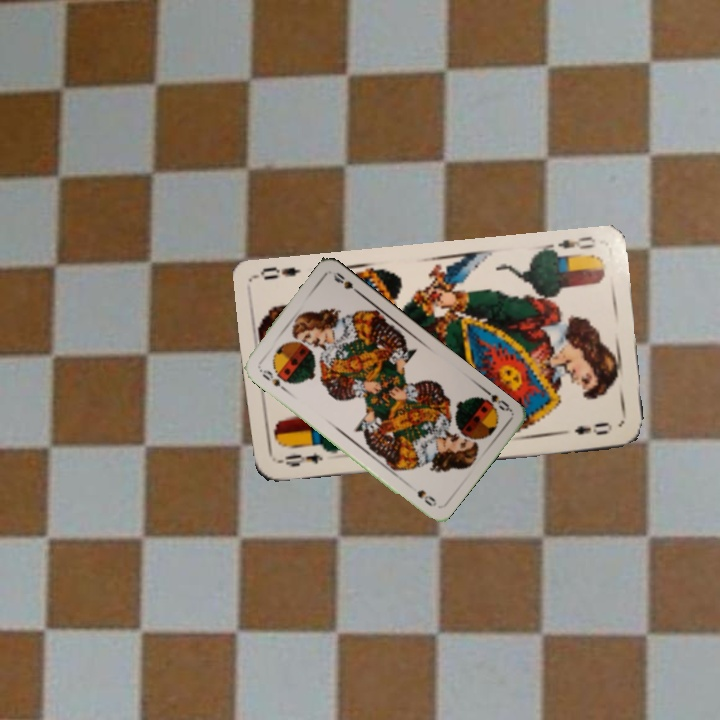EO: (543, 232, 598, 261), (273, 450, 325, 469)
SO: (474, 384, 514, 416), (255, 365, 289, 394)
